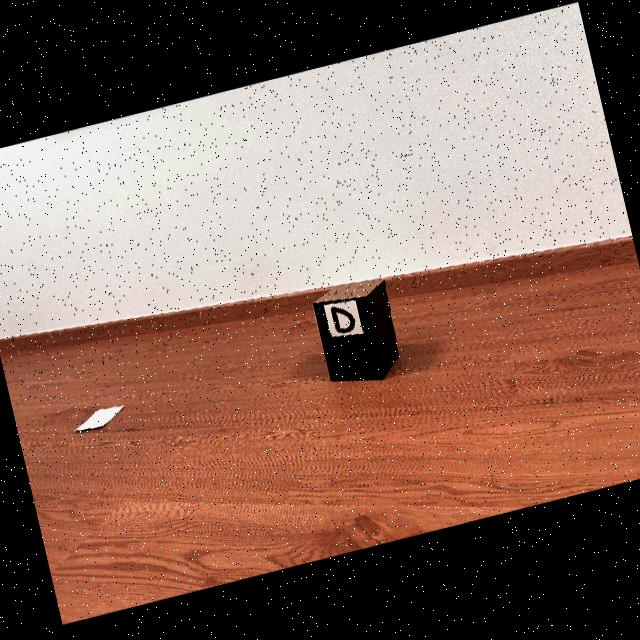A: (0, 4, 632, 338)
